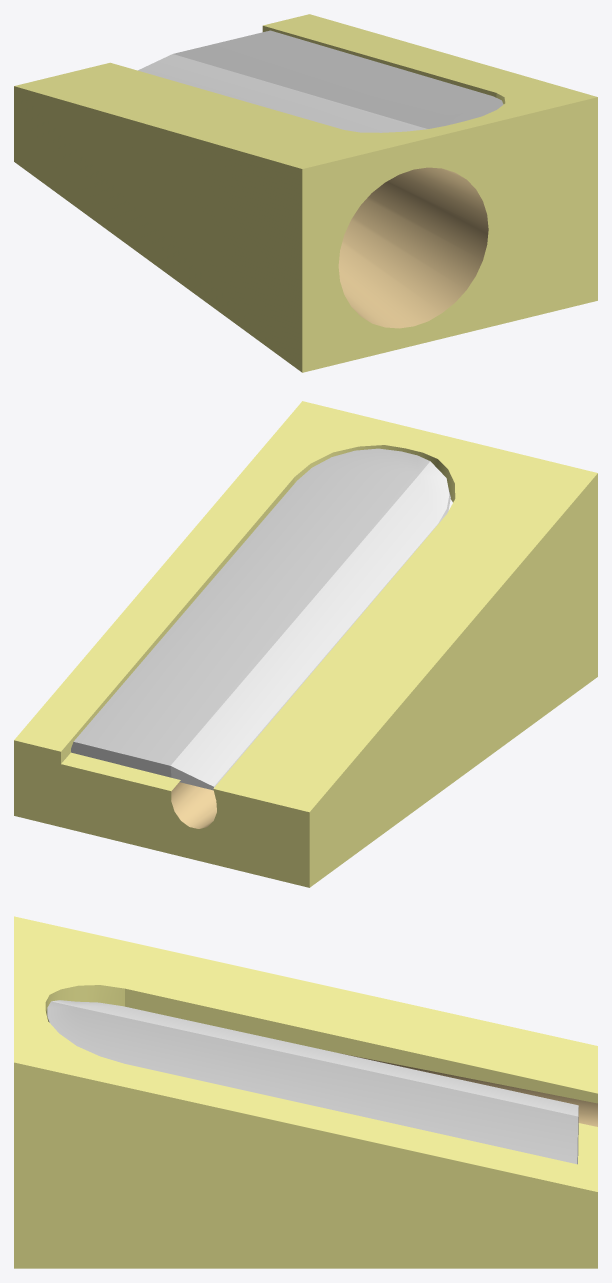
The model's file is 연필깎이2.fbx.
3 views of the same model, one above another, from view 1: azimuth 30°, elevation 25°; view 2: azimuth 150°, elevation 25°; view 3: azimuth 270°, elevation 25° (orthographic).
Visible parts, largest first — view 1: sharpener_metal; view 2: sharpener_metal; view 3: sharpener_metal.
Part boxes in pixels (bbox=[...]): sharpener_metal: bbox=[14, 14, 597, 372]; sharpener_metal: bbox=[14, 401, 597, 887]; sharpener_metal: bbox=[14, 916, 597, 1268].
Bounding box in the file's own units: 222 × 146 × 375.
